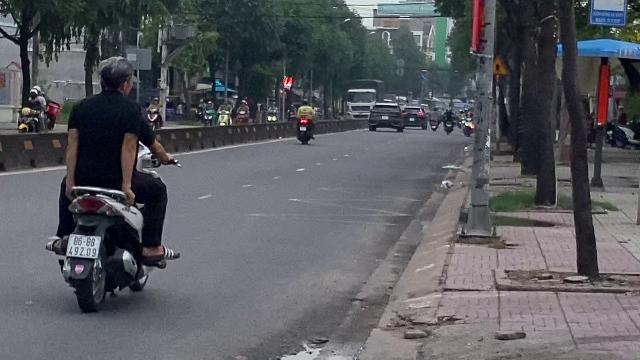licenseplate: (67, 234, 101, 258)
motorcyclist: (42, 53, 176, 312)
nohelmet: (96, 57, 134, 95)
